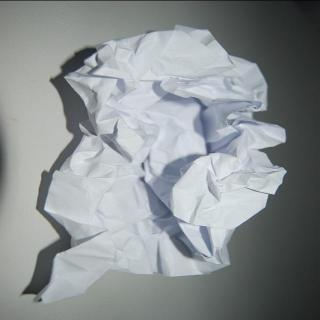Anorganik: (40, 25, 289, 297)
